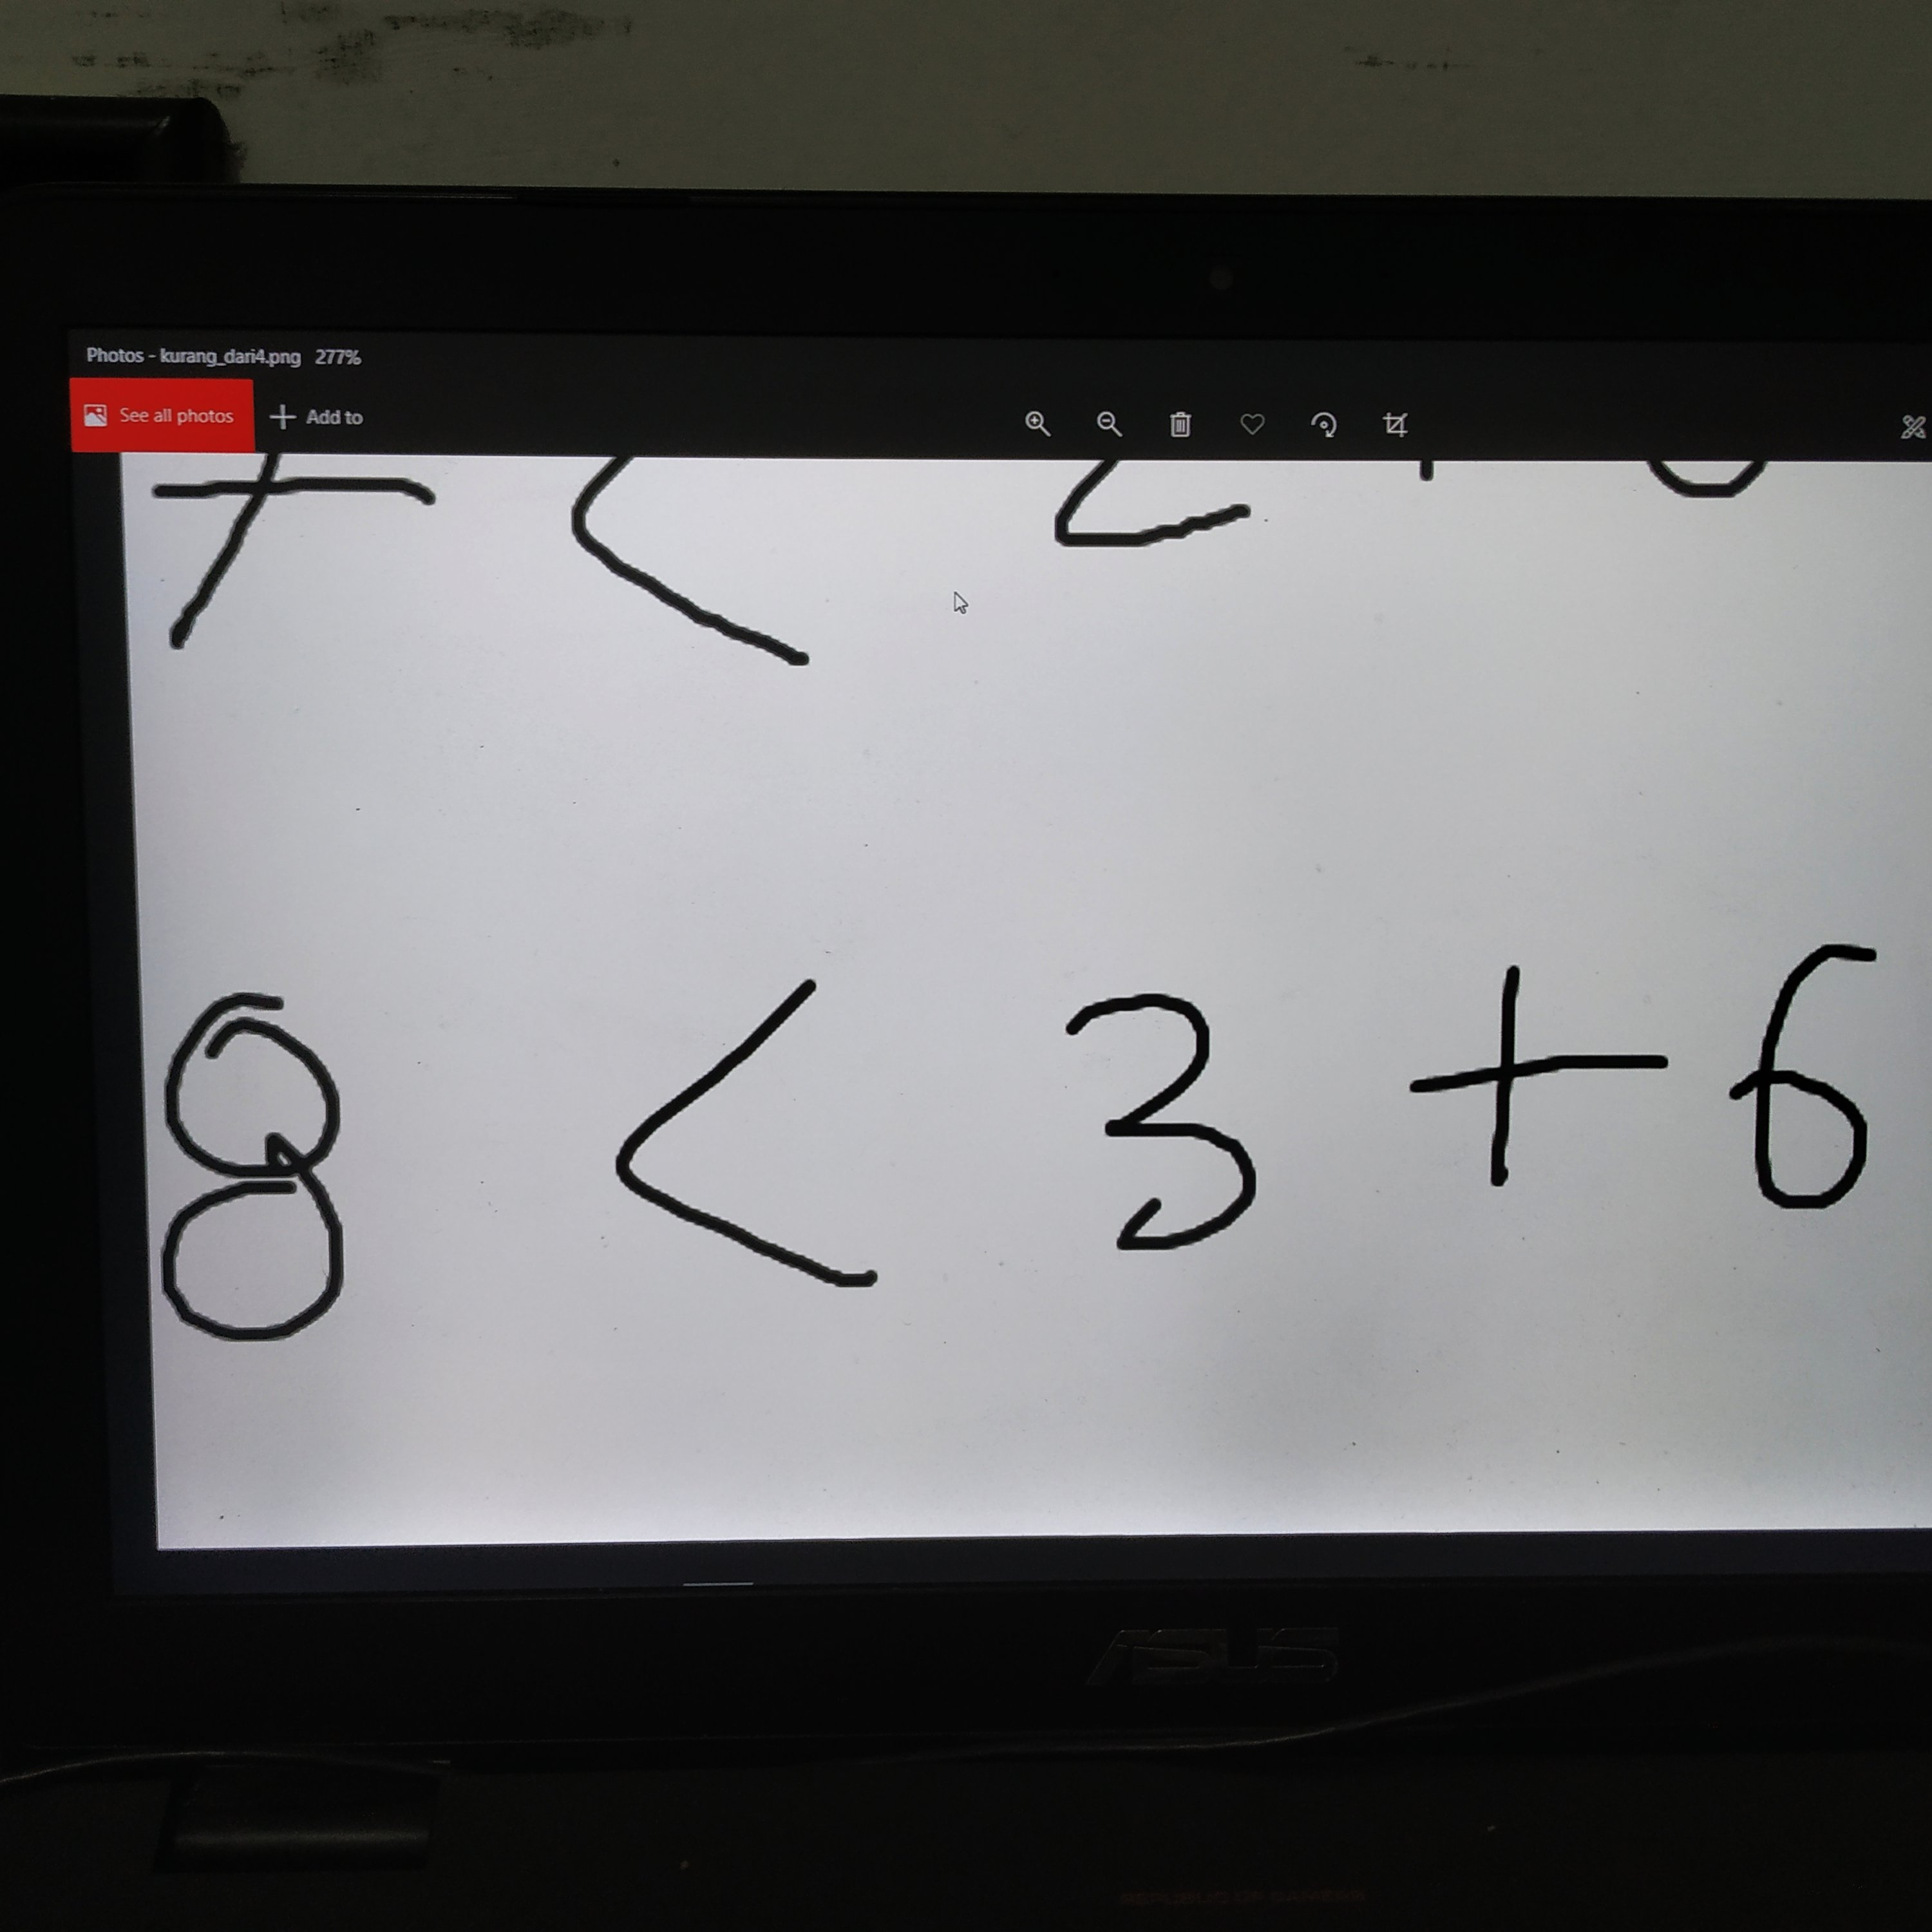lessthan: (582, 958, 922, 1313)
num3: (1054, 979, 1308, 1278)
num6: (1716, 927, 1888, 1244)
num8: (145, 983, 383, 1358)
sum: (1400, 954, 1698, 1200)
